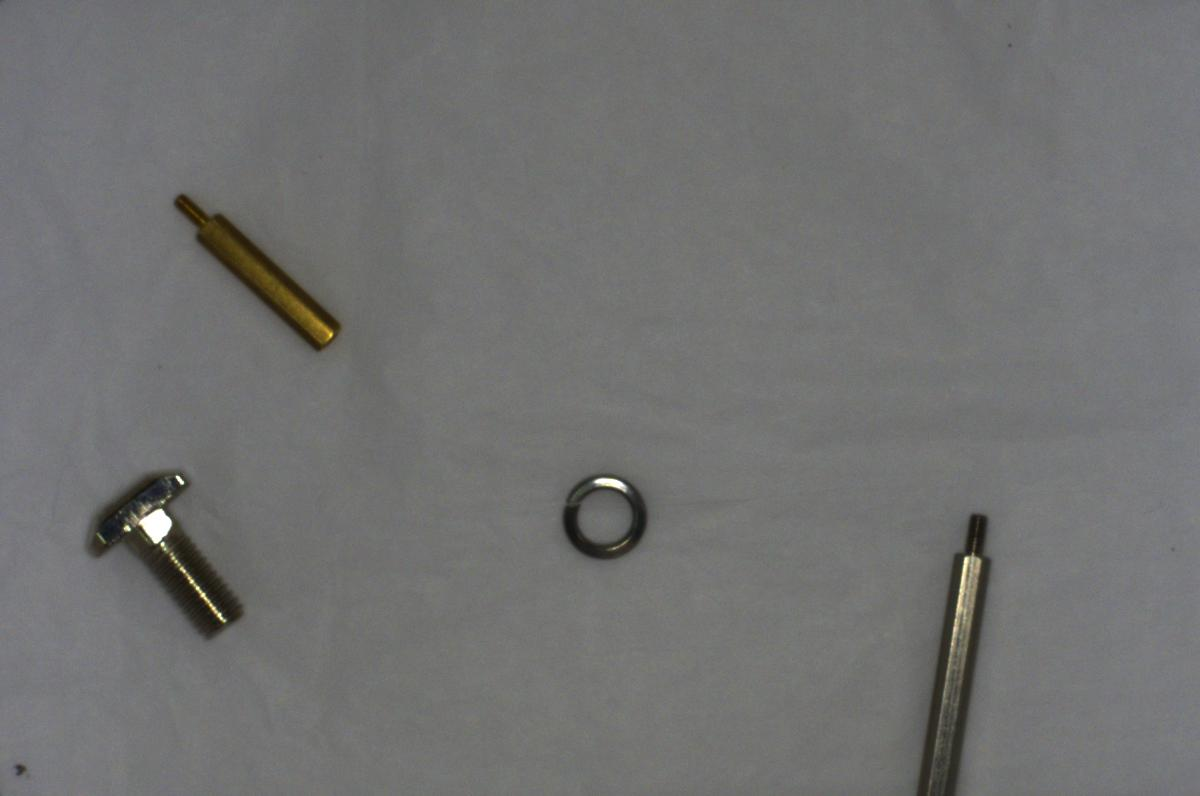Hexagon pillar: (165, 181, 342, 359)
Hexagonal steel column: (919, 507, 999, 795)
Spring washer: (545, 473, 660, 563)
T-shaped screw: (87, 461, 246, 642)
